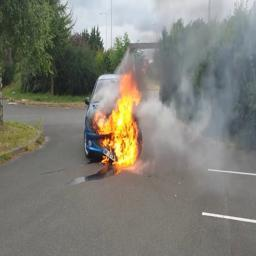fire: (93, 72, 142, 168)
